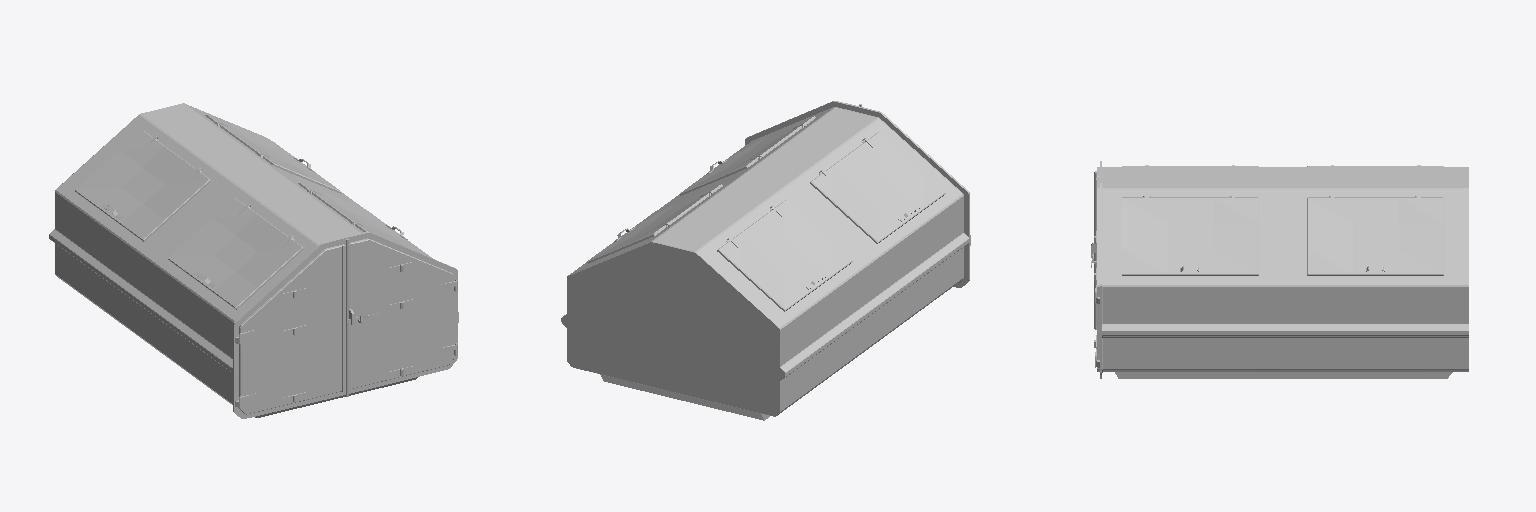
File: container.obj
3 views of the same model, side by side, from view 1: azimuth 30°, elevation 25°; view 2: azimuth 150°, elevation 25°; view 3: azimuth 270°, elevation 25° (orthographic).
Visible parts, largest first — view 1: trash; view 2: trash; view 3: trash.
Part boxes in pixels (bbox=[...]): trash: bbox=[49, 103, 458, 418]; trash: bbox=[561, 101, 970, 420]; trash: bbox=[1091, 161, 1468, 378].
Size of the model in its own units: 210 by 150 by 306.